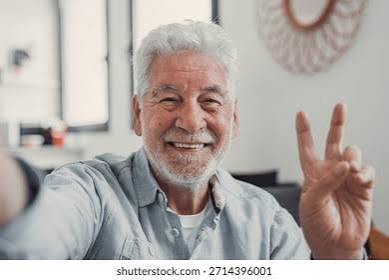peace_sign: (292, 100, 378, 259)
